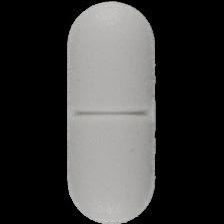43063-313: (0, 0, 224, 224)
